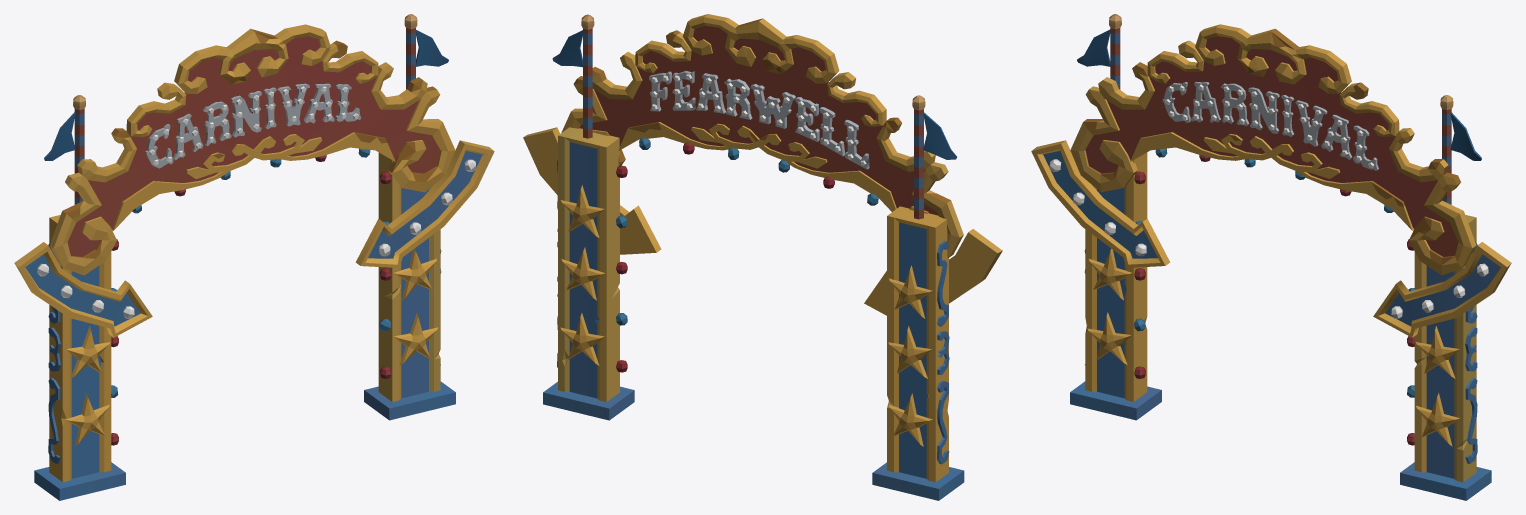
Rendered from entrance.glb.
3 renders of one model, left to right at view 1: azimuth 30°, elevation 25°; view 2: azimuth 150°, elevation 25°; view 3: azimuth 330°, elevation 25°, orthographic.
Parts seen in each view (by area): view 1: SM_Prop_Carnival_Entrance_01; view 2: SM_Prop_Carnival_Entrance_01; view 3: SM_Prop_Carnival_Entrance_01.
Boxes of the visible parts, <box> form: SM_Prop_Carnival_Entrance_01: <box>14,14,494,500</box>; SM_Prop_Carnival_Entrance_01: <box>523,14,1002,500</box>; SM_Prop_Carnival_Entrance_01: <box>1031,14,1511,500</box>.
Size of the model in its own units: 573 by 481 by 57.06.
1 material, 1 textured.
